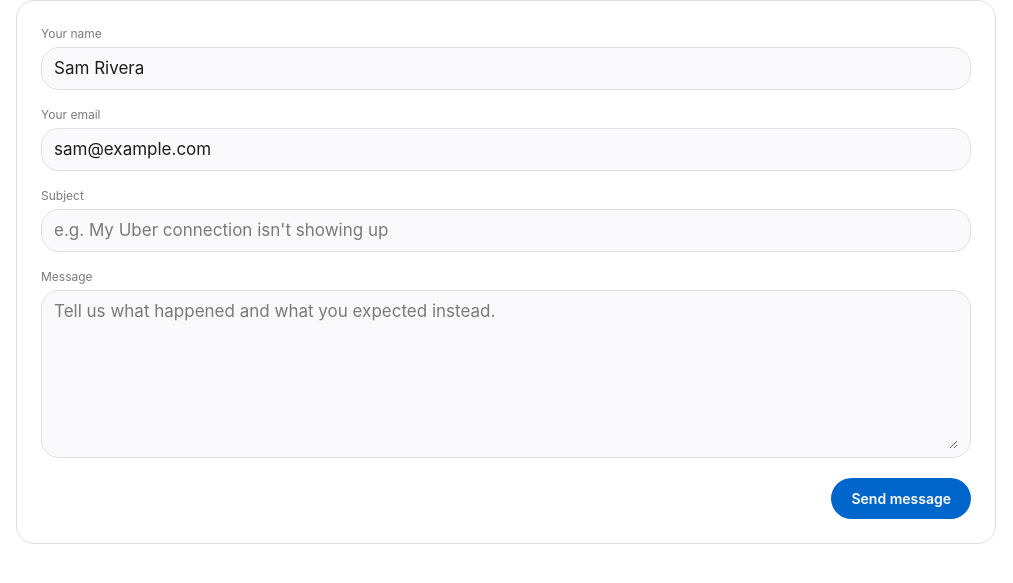
Scenario: ContactForm › renders server-side field errors from a 422 against the right inputs
Type "Uber connection missing" into the field labelled "Subject" at (506, 230), box [54,218,958,243]
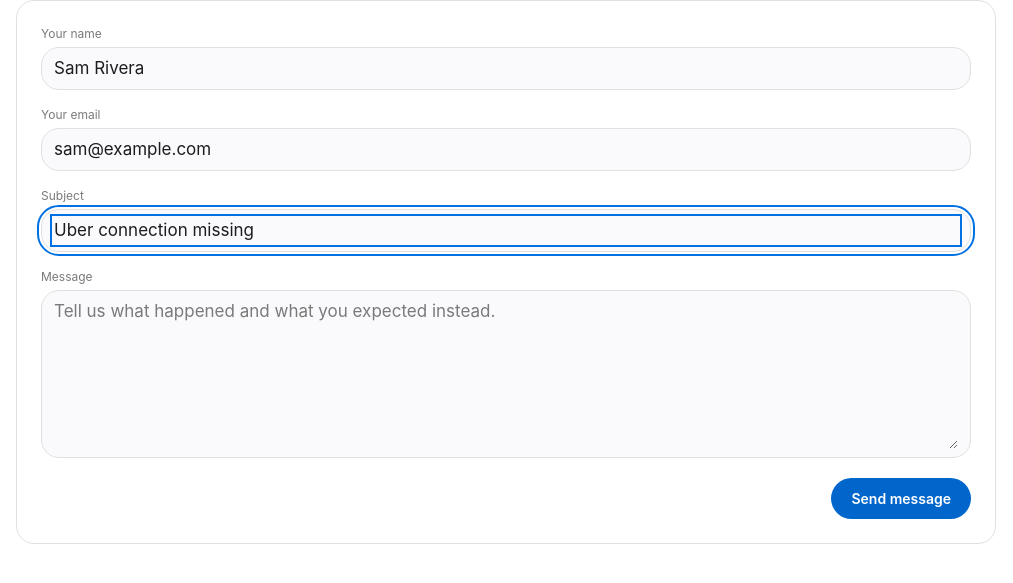
Type "My Uber earnings stopped showing up after Tuesday." into the text box labelled "Message" at (506, 374), box [54,299,958,449]
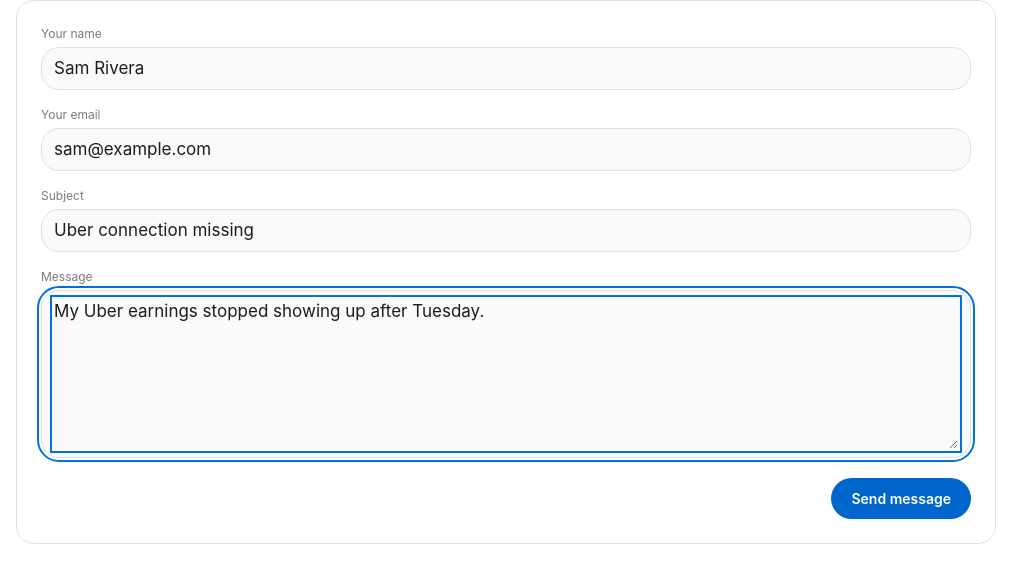
Click the button "Send message" at (901, 498), box [831,478,971,519]
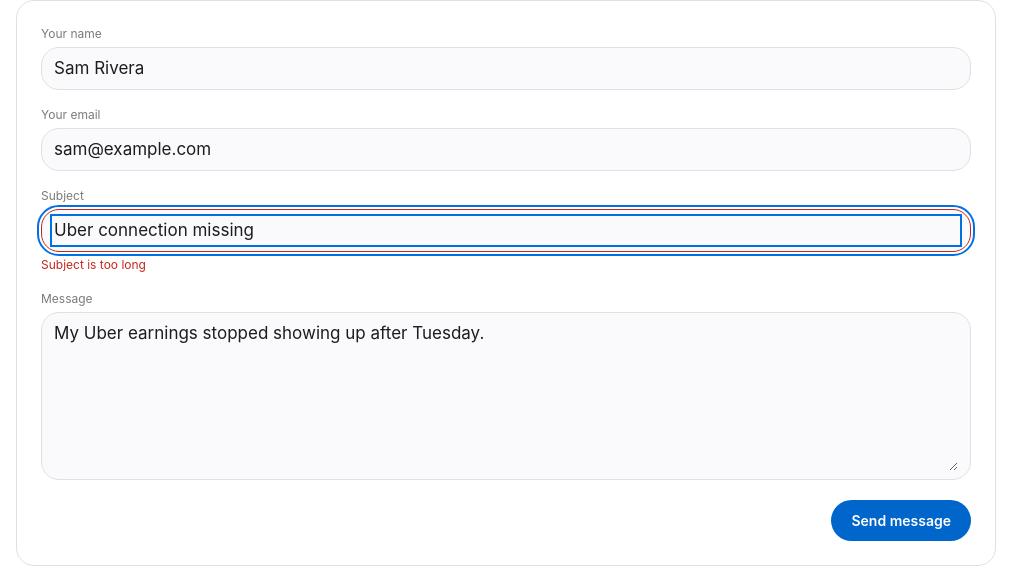
Check: the message reads "Subject is too long", box [41,257,146,272]
